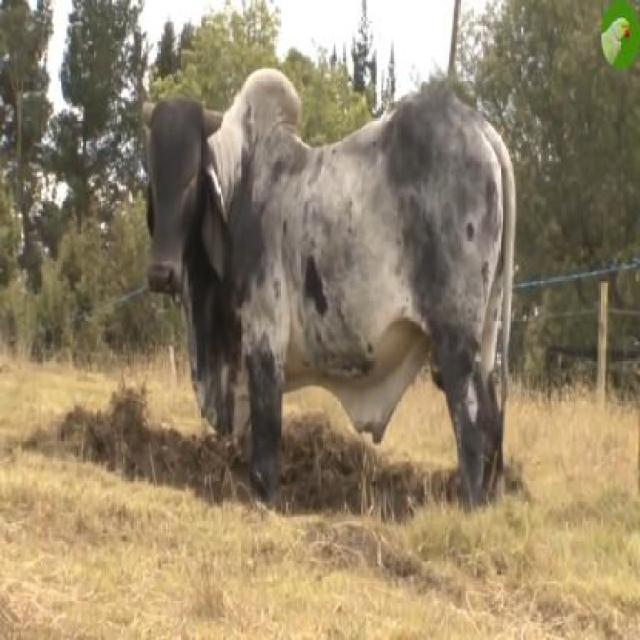Cow: (142, 68, 516, 512)
